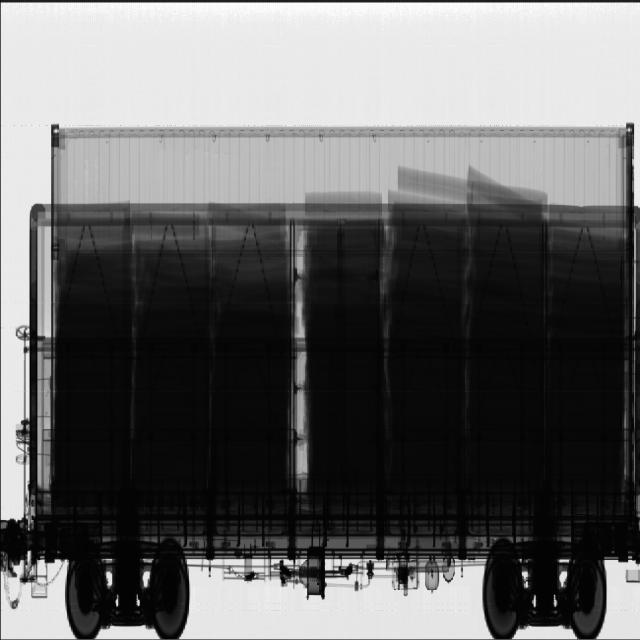shoes: (35, 132, 638, 482)
